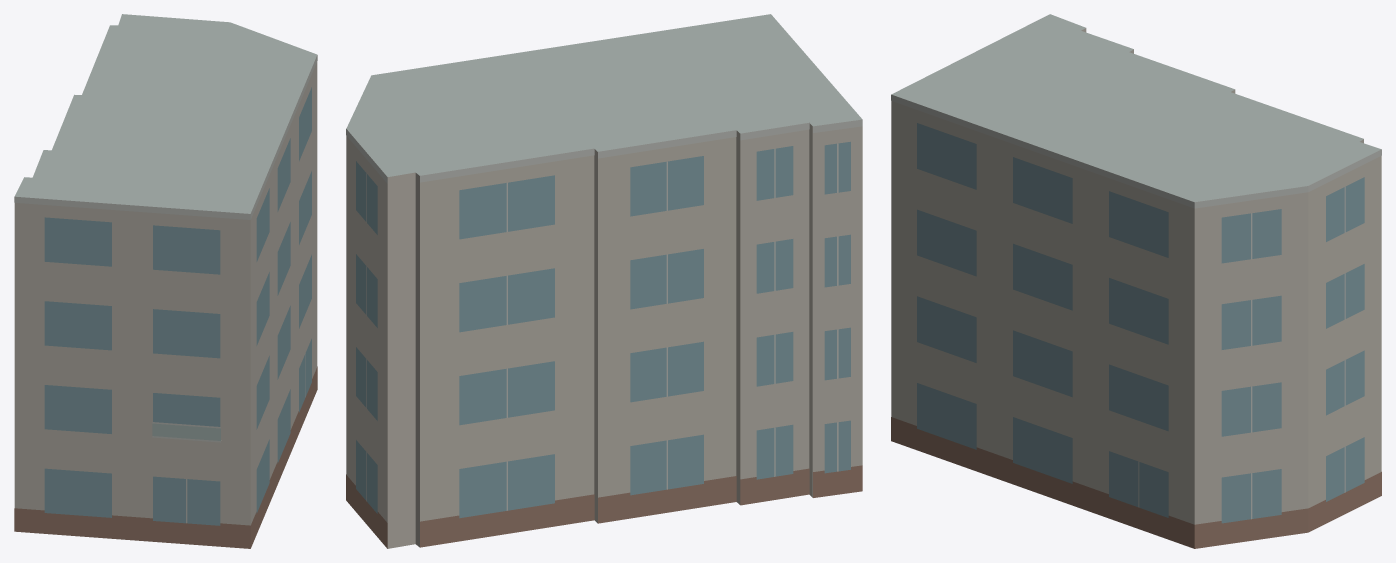
The model's file is survey-upis-32498194.glb.
3 views of the same model, side by side, from view 1: azimuth 30°, elevation 25°; view 2: azimuth 150°, elevation 25°; view 3: azimuth 270°, elevation 25° (orthographic). The views are drawn at different scales.
Parts seen in each view (by area): view 1: survey-upis-32498194.tmp; view 2: survey-upis-32498194.tmp; view 3: survey-upis-32498194.tmp.
Boxes of the visible parts, left/top/right/bottom form: survey-upis-32498194.tmp: left=14, top=14, right=317, bottom=548; survey-upis-32498194.tmp: left=346, top=14, right=862, bottom=548; survey-upis-32498194.tmp: left=891, top=14, right=1381, bottom=548.
Bounding box in the file's own units: 15.62 × 13.4 × 17.2.
